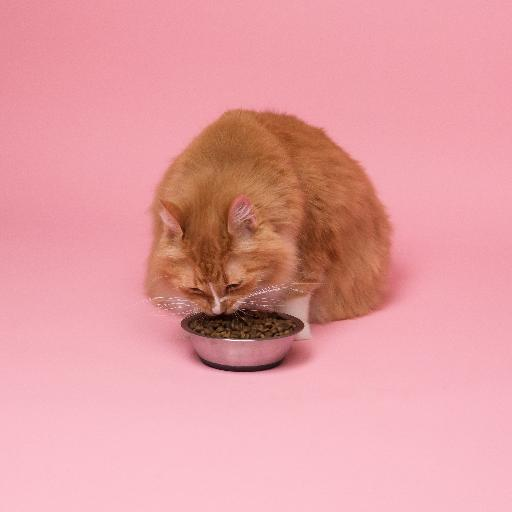cat_eating: (146, 110, 391, 371)
